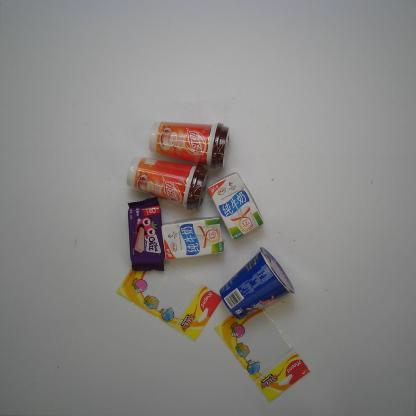Dessert: (218, 246, 296, 320), (127, 196, 166, 274)
Instant Drink: (125, 156, 210, 211), (147, 119, 231, 170)
Milk: (205, 170, 265, 241), (160, 216, 227, 260)
Stationery: (212, 303, 312, 406), (115, 261, 223, 345)
